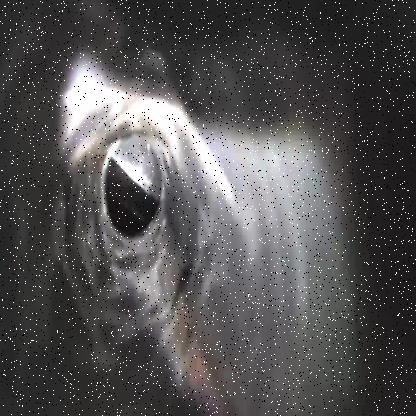Crack: (49, 70, 216, 349)
